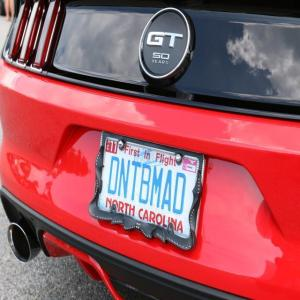Plate: (97, 137, 200, 237)
